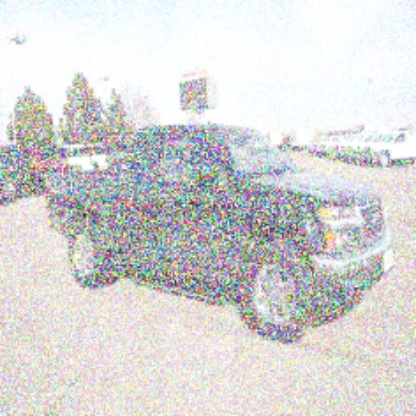Vehicle: (43, 124, 397, 346)
